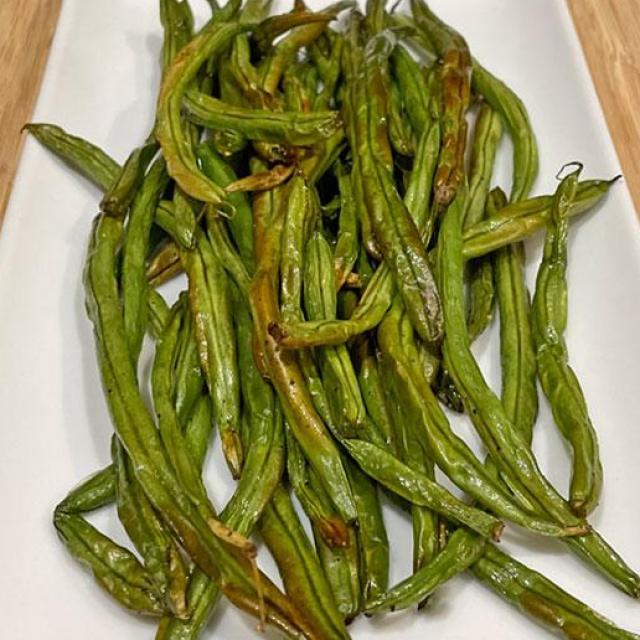Beans: (33, 0, 639, 639)
